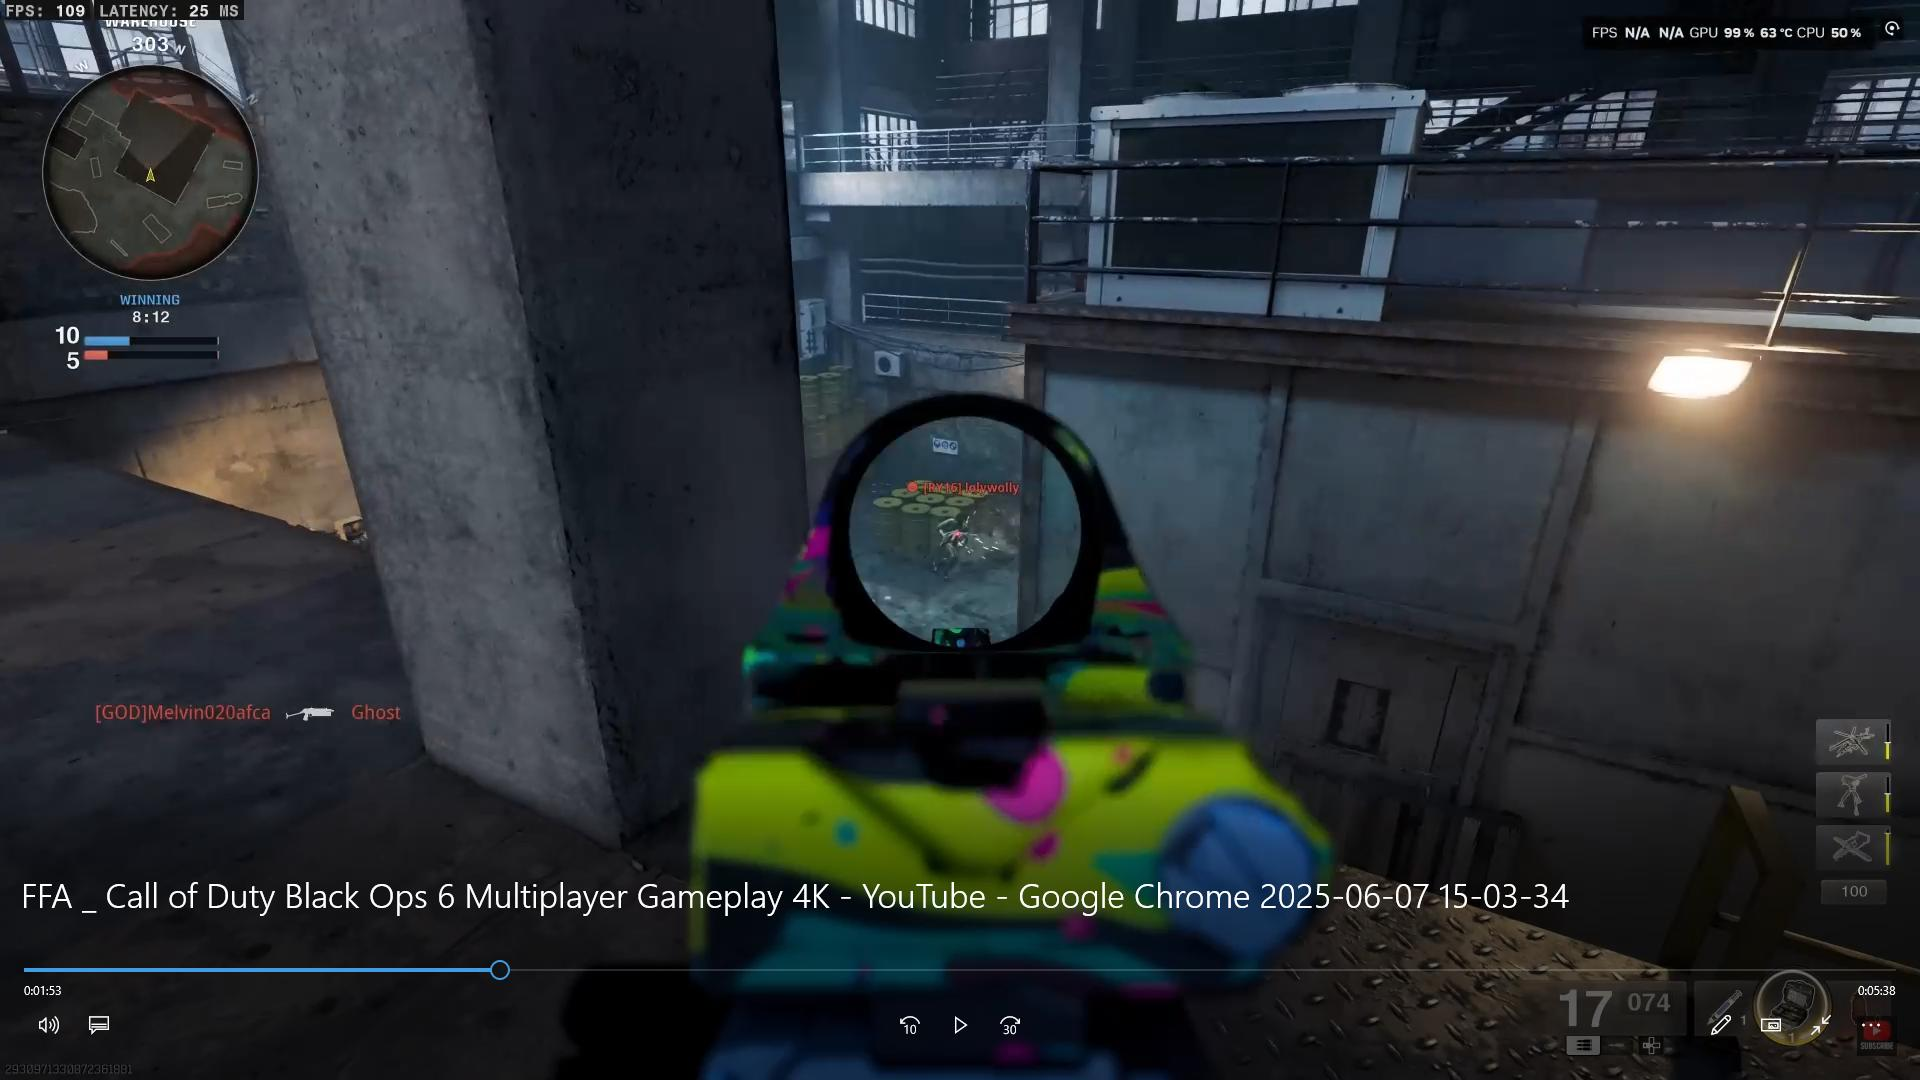Enemy: (930, 501, 975, 585)
